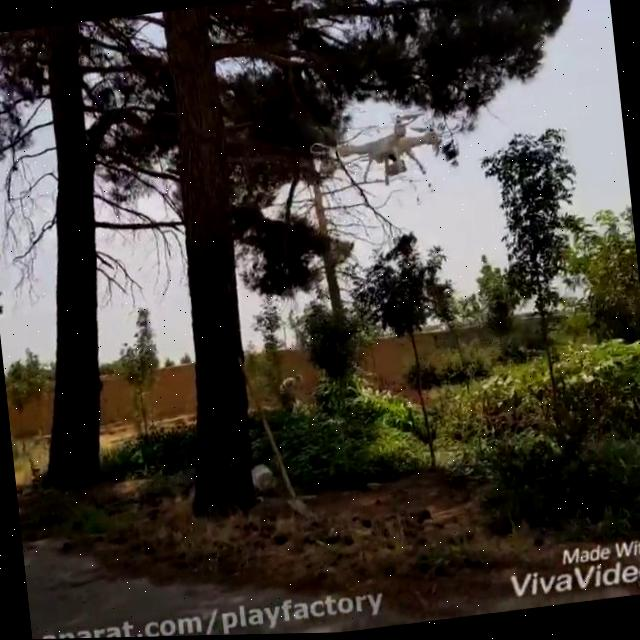drone: (305, 107, 450, 197)
